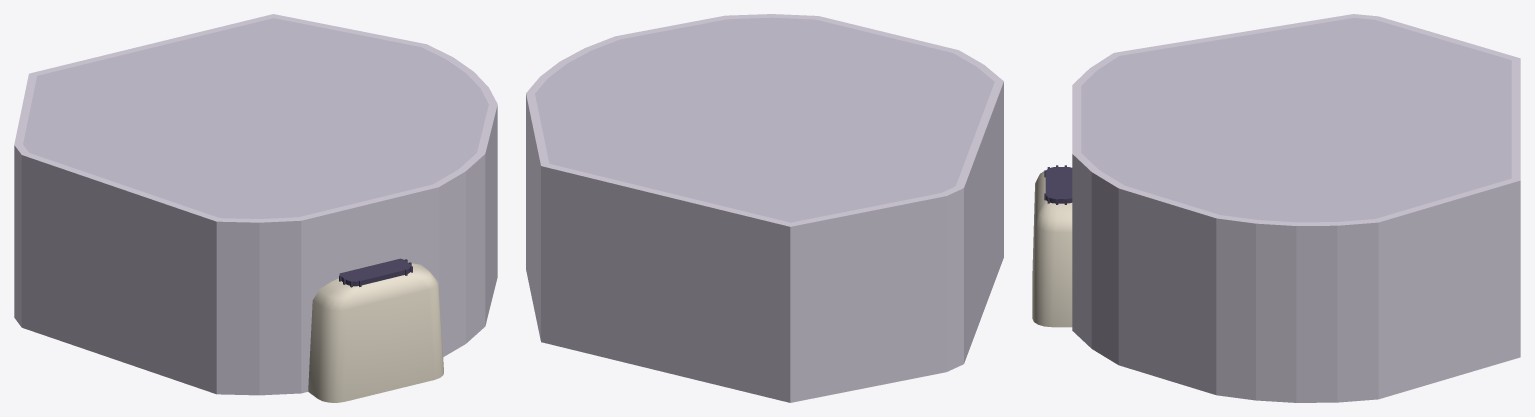
The model's file is team-station.glb.
3 views of the same model, side by side, from view 1: azimuth 30°, elevation 25°; view 2: azimuth 150°, elevation 25°; view 3: azimuth 270°, elevation 25° (orthographic). The views are drawn at different scales.
Visible parts, largest first — view 1: briefing room wall 0, briefing room ceiling, station pod shell, briefing room wall lintel, station pod ring; view 2: briefing room wall 0, briefing room ceiling; view 3: briefing room wall 0, briefing room ceiling, station pod shell, station pod ring.
Boxes of the visible parts, x1,y1,x2,y2 form: briefing room wall 0: [14, 14, 497, 395]; briefing room ceiling: [23, 18, 488, 218]; station pod shell: [308, 263, 443, 402]; briefing room wall lintel: [325, 191, 410, 282]; station pod ring: [339, 258, 410, 286]; briefing room wall 0: [526, 14, 1003, 402]; briefing room ceiling: [535, 17, 994, 222]; briefing room wall 0: [1072, 14, 1520, 402]; briefing room ceiling: [1081, 18, 1511, 222]; station pod shell: [1032, 171, 1072, 327]; station pod ring: [1045, 167, 1072, 203].
Bounding box in the file's own units: 11.31 × 4.4 × 11.01.
